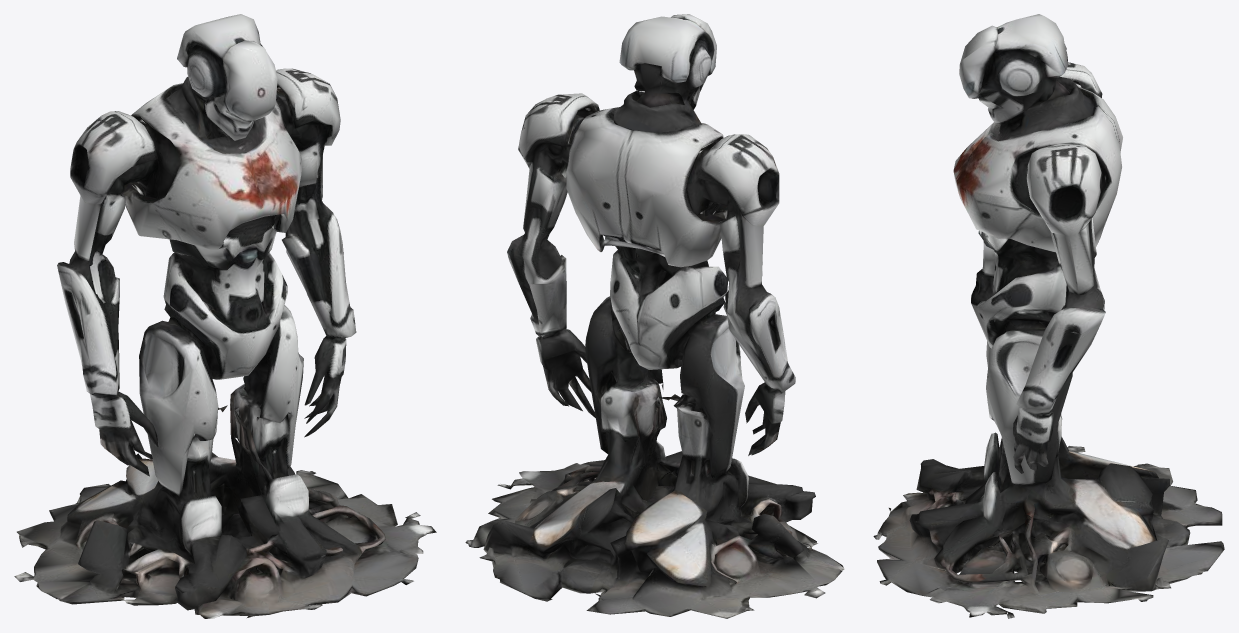
File: Meshy_AI_Damaged_Security_Droid_balanced.glb
The picture shows the model from 3 angles, left to right: view 1: azimuth 30°, elevation 25°; view 2: azimuth 150°, elevation 25°; view 3: azimuth 270°, elevation 25°; orthographic projection. The views are drawn at different scales.
Bounding box in the file's own units: 1.45 × 2 × 1.25.
1 material, 1 textured.
